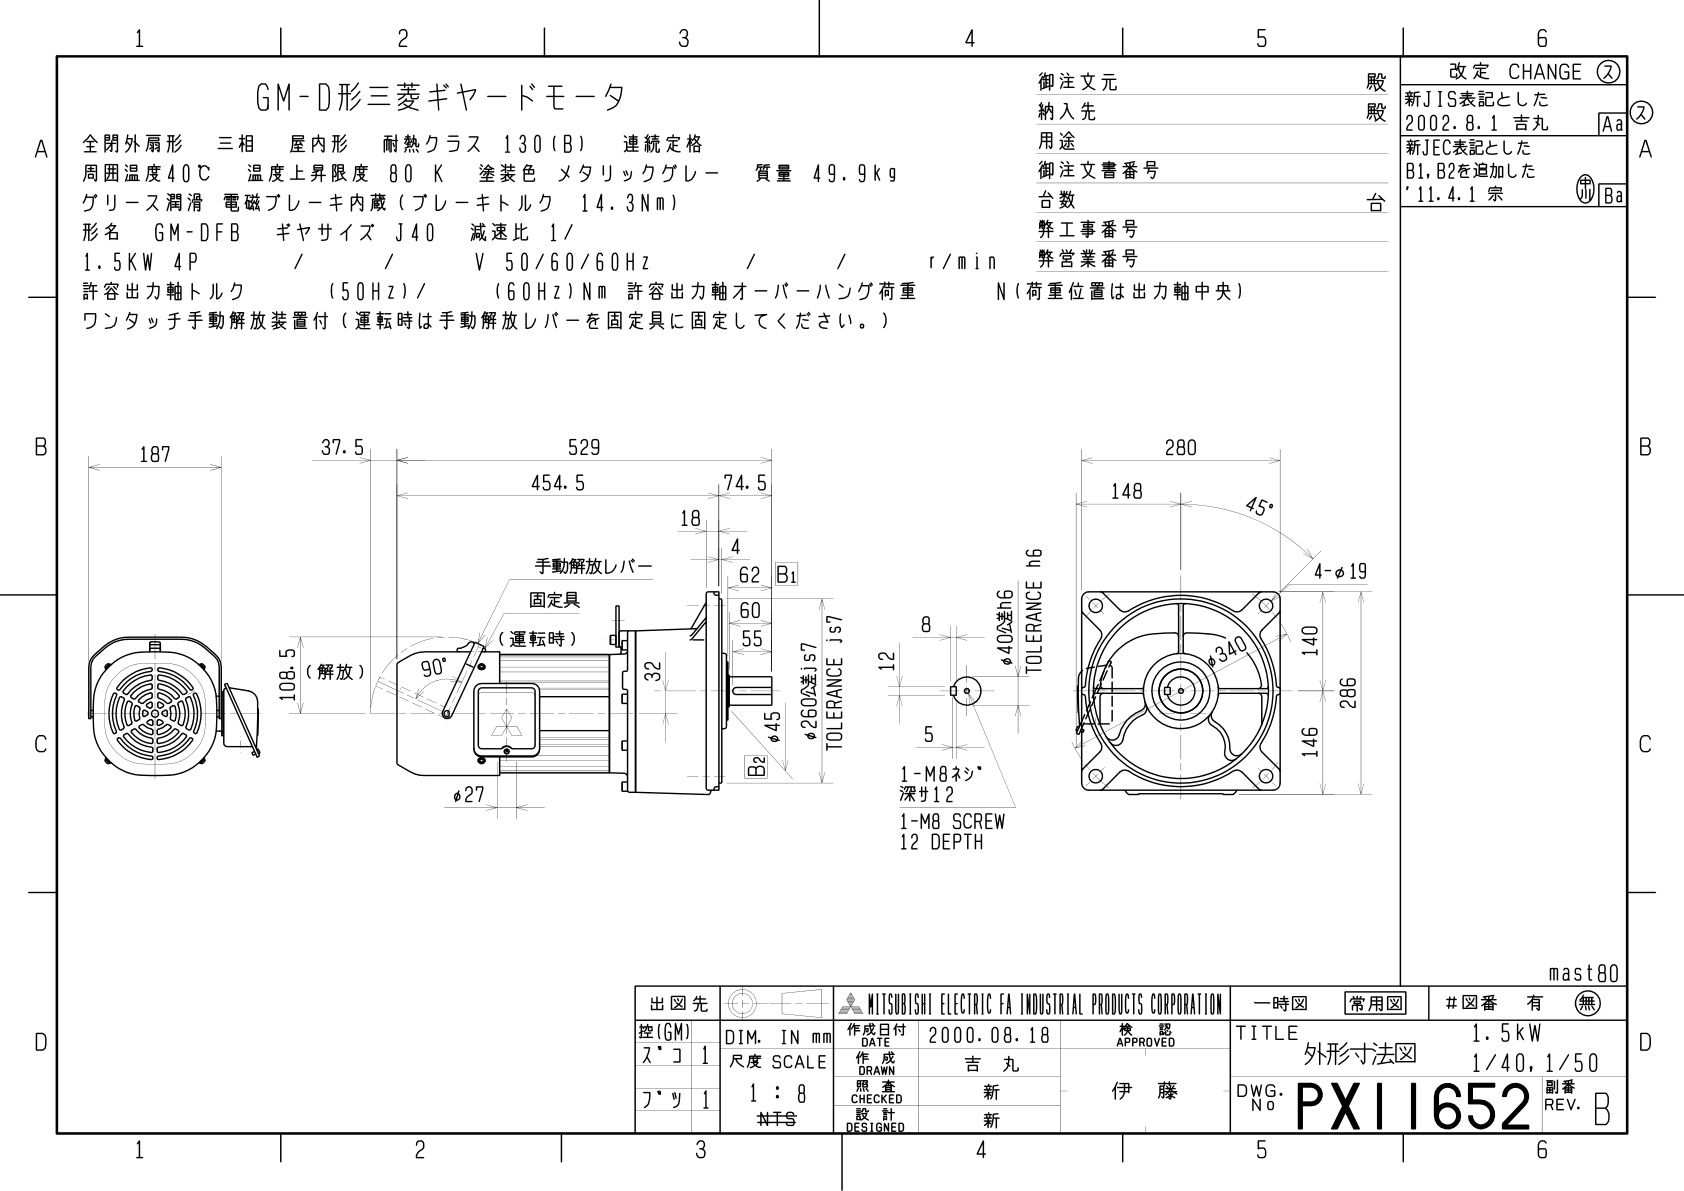GM_D_手動解放ブレーキ＿三相_フランジ: (1, 1, 1663, 1181)
